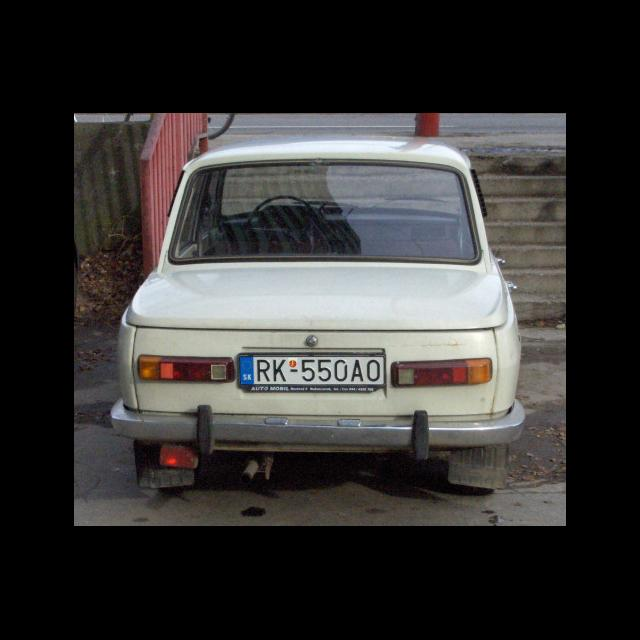Plate: (236, 350, 387, 390)
